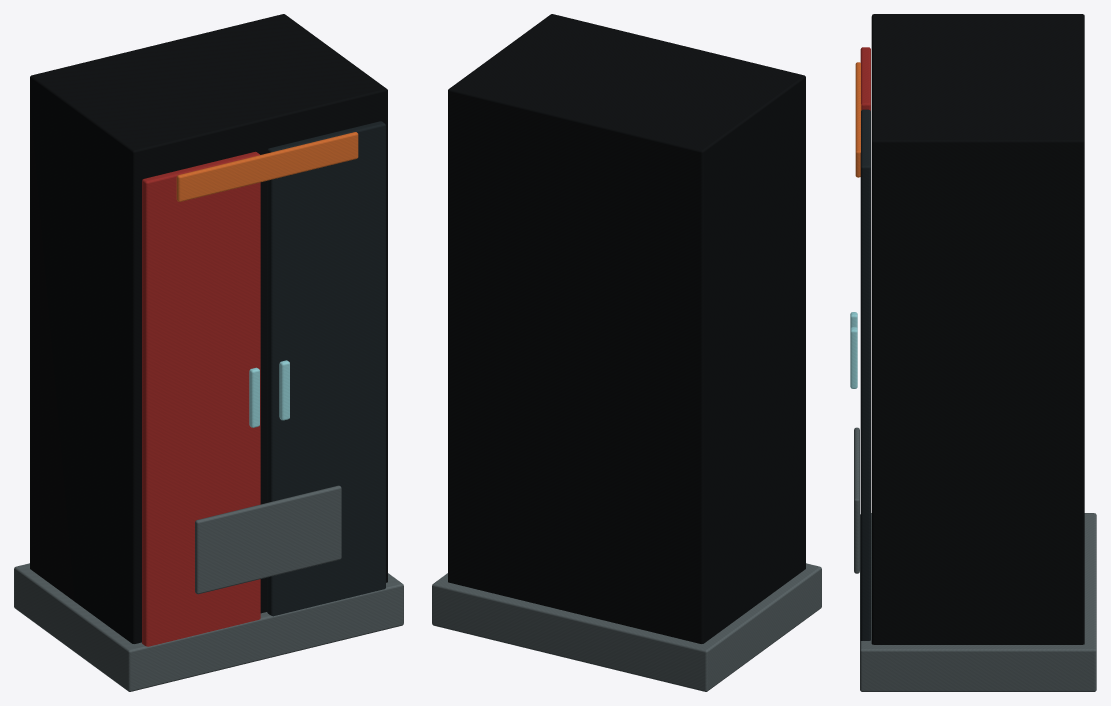
Rendered from ChemicalStorageLocker.glb.
The picture shows the model from 3 angles, left to right: view 1: azimuth 30°, elevation 25°; view 2: azimuth 150°, elevation 25°; view 3: azimuth 270°, elevation 25°; orthographic projection. The views are drawn at different scales.
Parts seen in each view (by area): view 1: ChemicalStorageLocker_Mesh; view 2: ChemicalStorageLocker_Mesh; view 3: ChemicalStorageLocker_Mesh.
Part boxes in pixels (left/top/right/bottom): ChemicalStorageLocker_Mesh: left=14, top=14, right=403, bottom=691; ChemicalStorageLocker_Mesh: left=432, top=14, right=821, bottom=691; ChemicalStorageLocker_Mesh: left=850, top=14, right=1096, bottom=691.
Bounding box in the file's own units: 1.1 × 2.04 × 0.8325.
6 materials, 6 textured.
